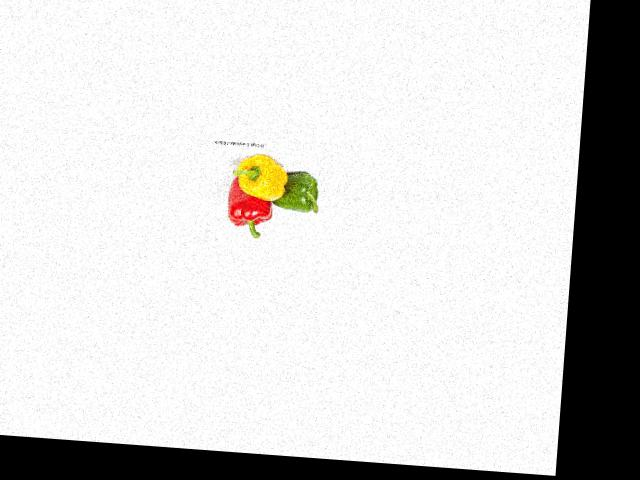bell_pepper: (221, 178, 275, 239)
